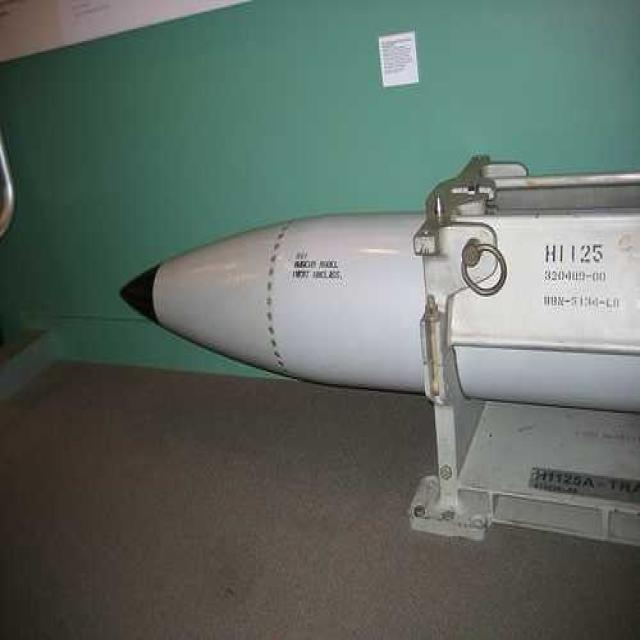missile: (120, 181, 640, 418)
